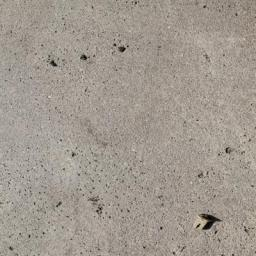FOD: (194, 211, 219, 236)
